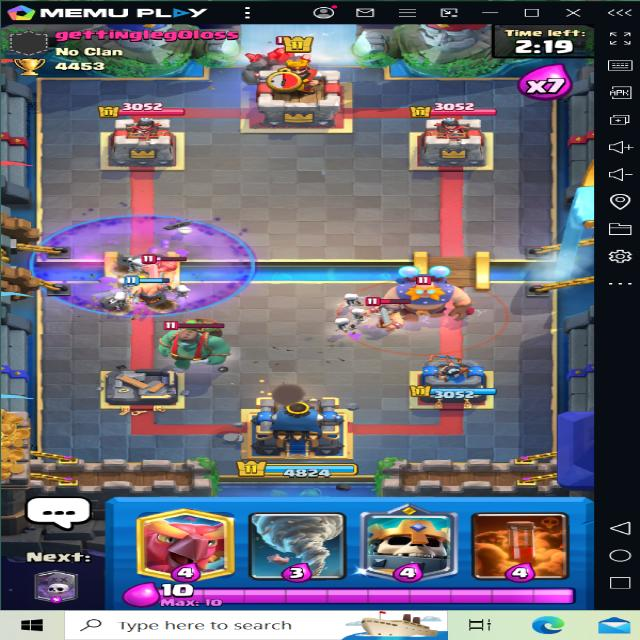electro-barbarians: (355, 292, 416, 335), (144, 251, 196, 281)
electro-giant: (371, 266, 477, 326)
goblin-giant: (160, 312, 240, 369)
golem: (237, 32, 331, 88)
